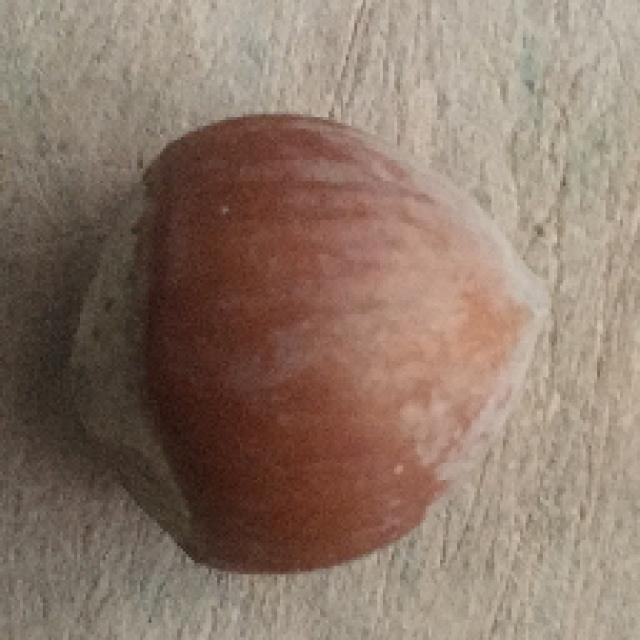QualityHazelnut: (63, 110, 549, 578)
